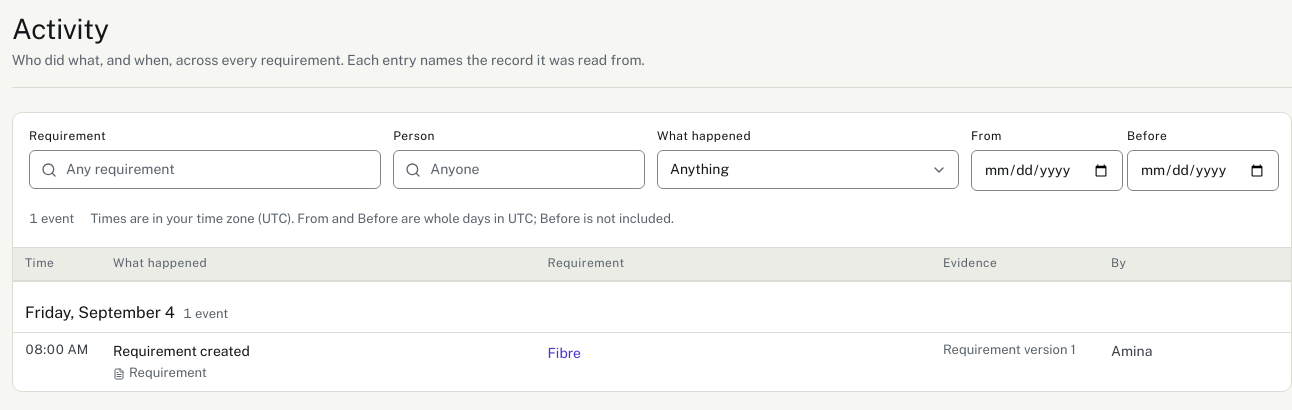
activity › filters by a requirement chosen by name, not by ID
The image size is (1292, 410).
Type "Leg" into the dropdown labelled "Requirement". click: point(205, 170)
box: [29, 150, 381, 189]
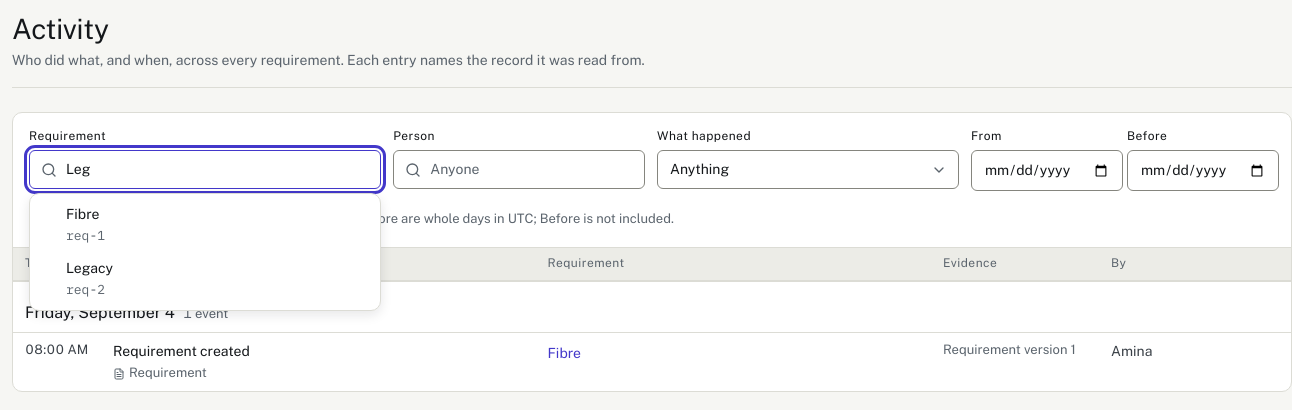
Click the option "Legacy req-2". click: point(90, 279)
box: [66, 260, 113, 298]
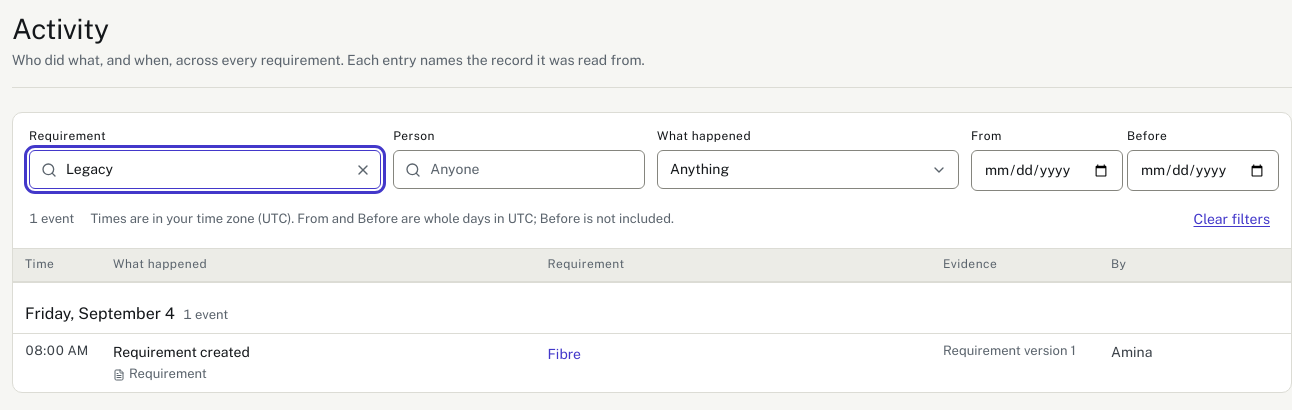
Expected: the button named "Clear requirement" is shown, [351, 158, 375, 182]
